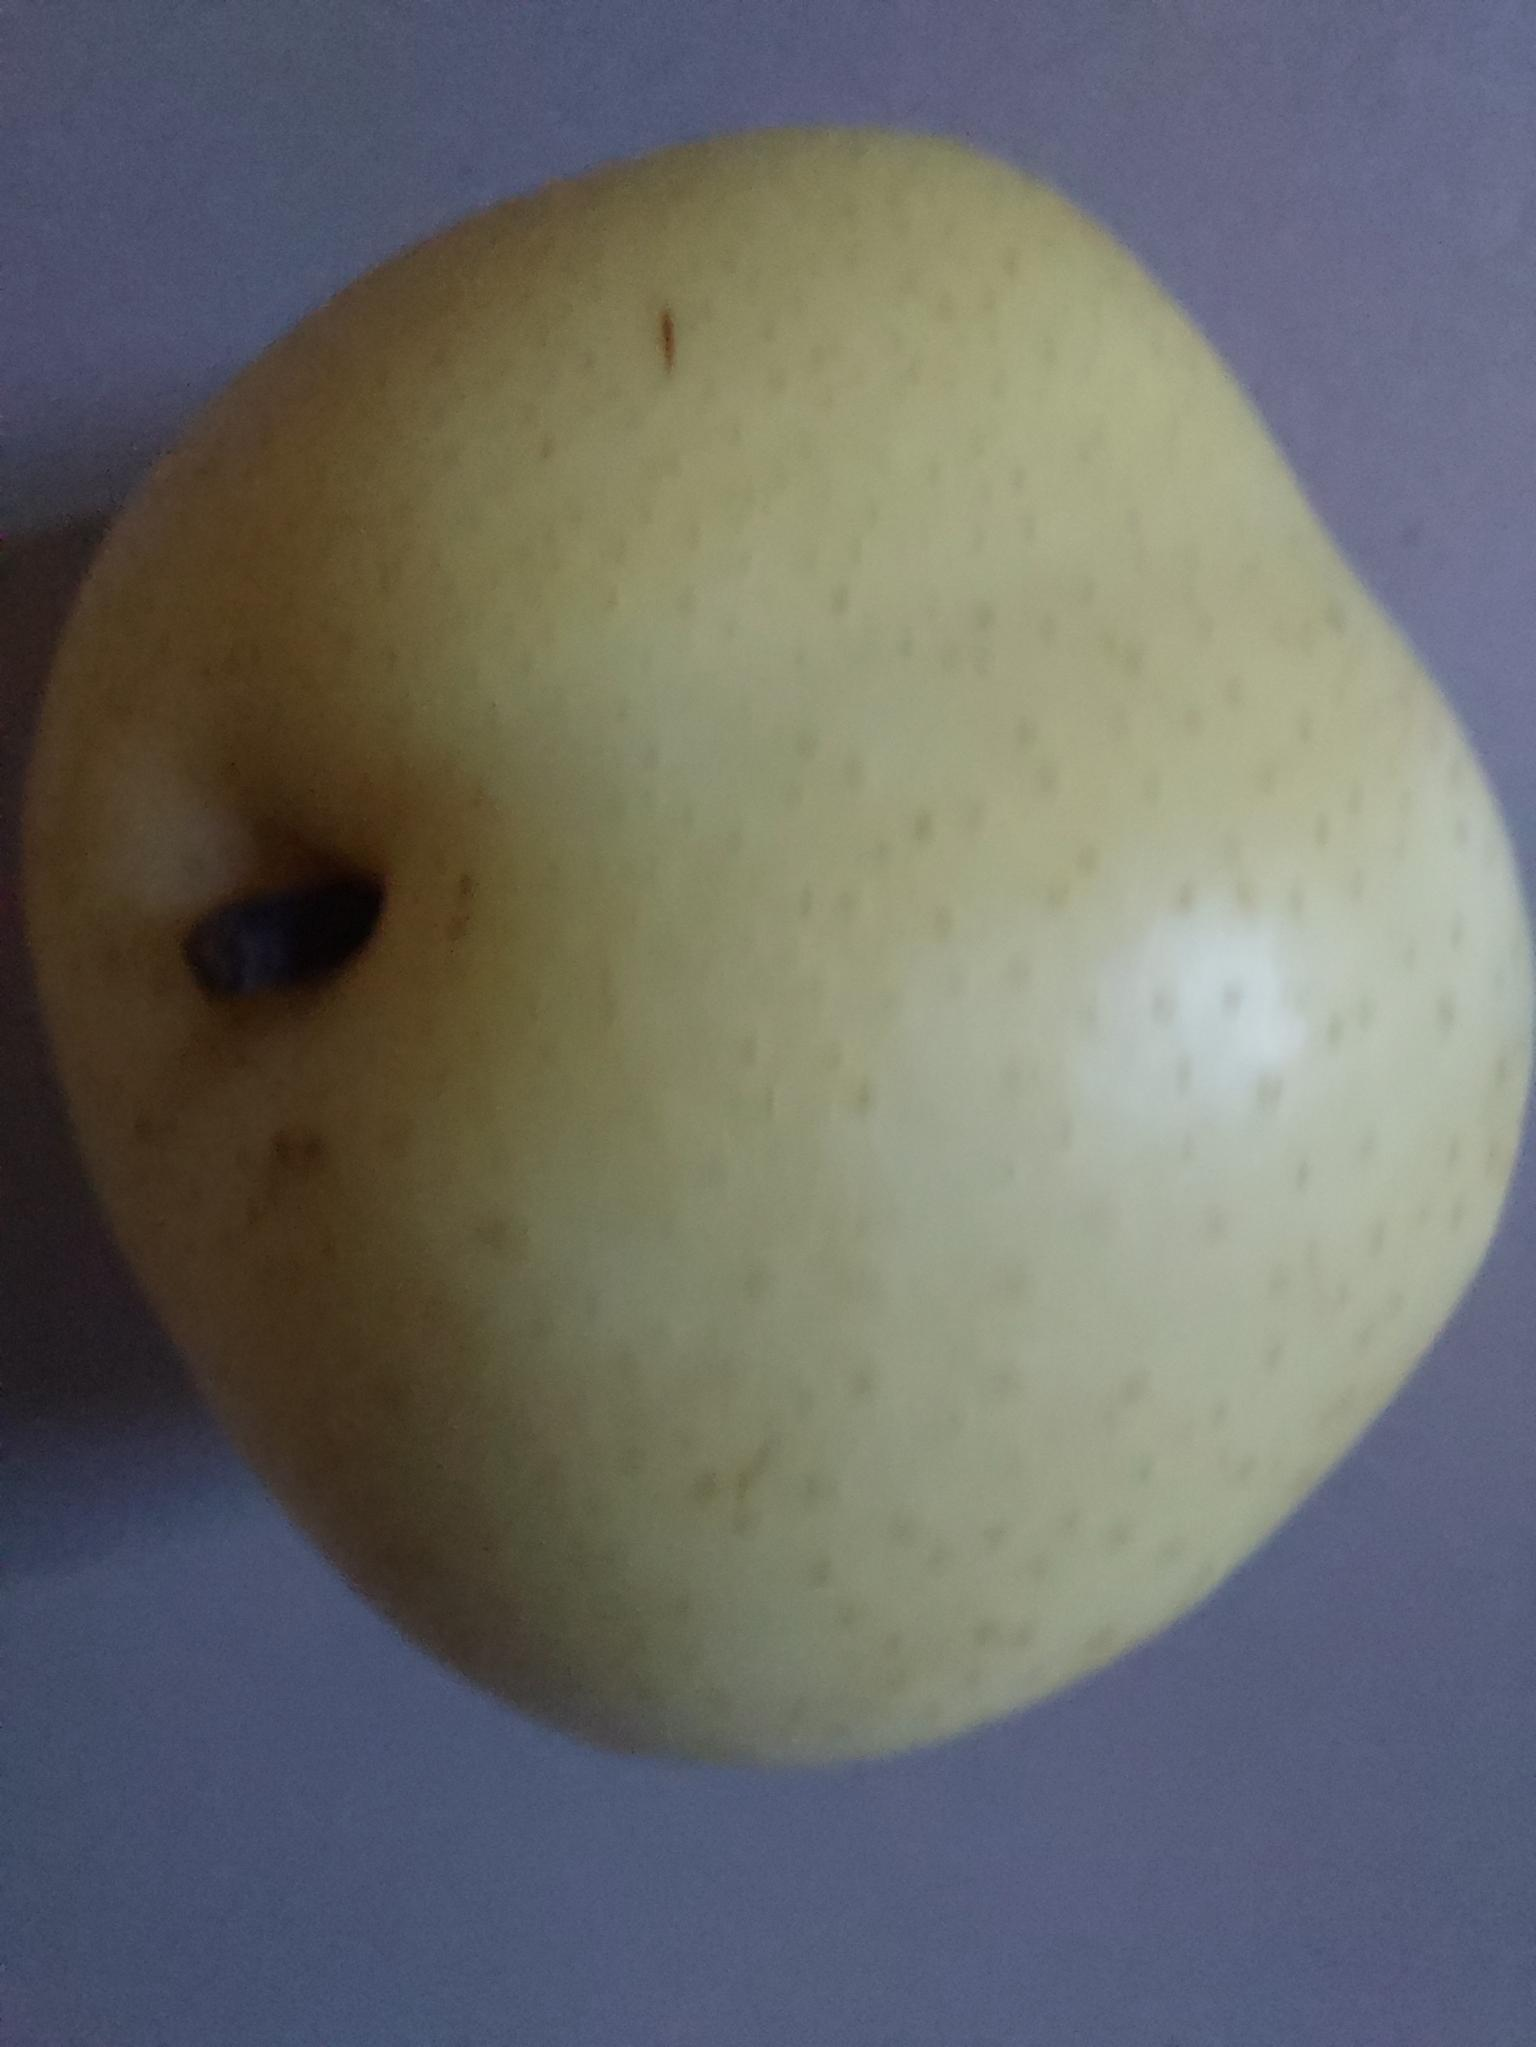Good Pear: (8, 121, 1518, 1784)
